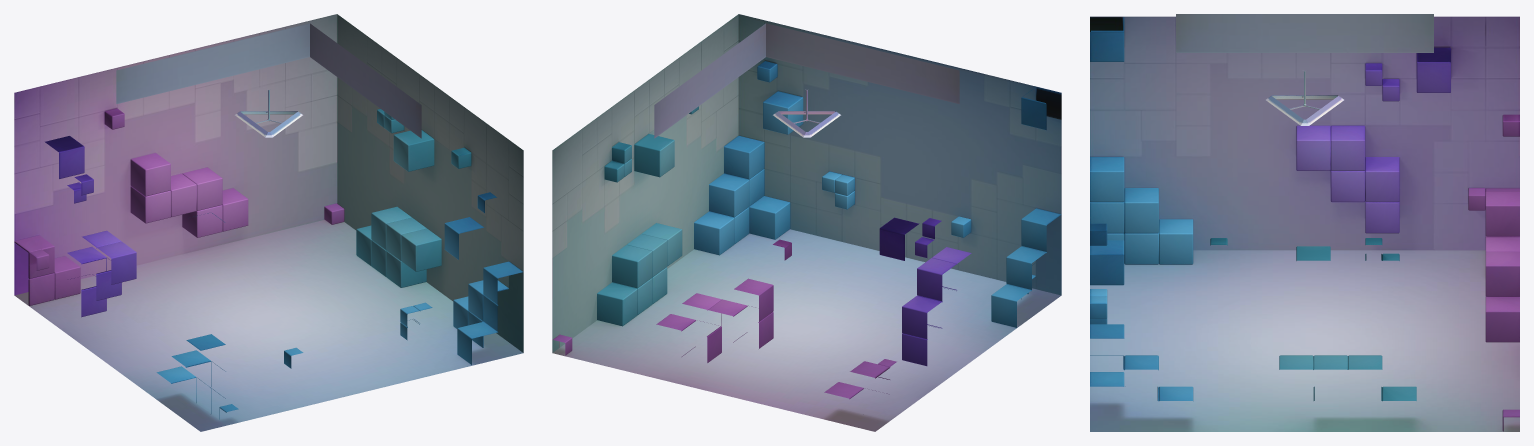
File: cube-room.gltf
3 views of the same model, side by side, from view 1: azimuth 30°, elevation 25°; view 2: azimuth 150°, elevation 25°; view 3: azimuth 270°, elevation 25° (orthographic). The views are drawn at different scales.
Visible parts, largest first — view 1: CubeRoom_GEO; view 2: CubeRoom_GEO; view 3: CubeRoom_GEO.
Part boxes in pixels (bbox=[...]): CubeRoom_GEO: bbox=[14, 14, 523, 431]; CubeRoom_GEO: bbox=[552, 14, 1061, 431]; CubeRoom_GEO: bbox=[1090, 14, 1519, 431].
Size of the model in its own units: 10 by 7 by 10.
Materials: 1 (1 with a texture image).
